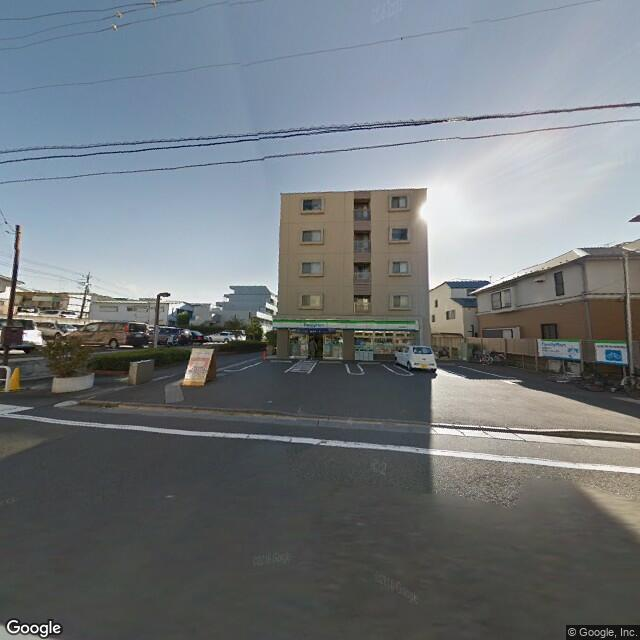family_mart: (271, 317, 422, 334)
